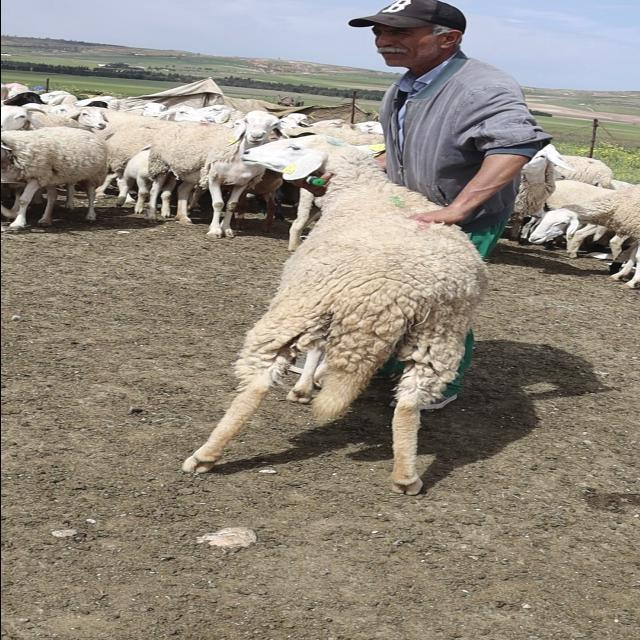Score_2: (181, 135, 487, 495)
